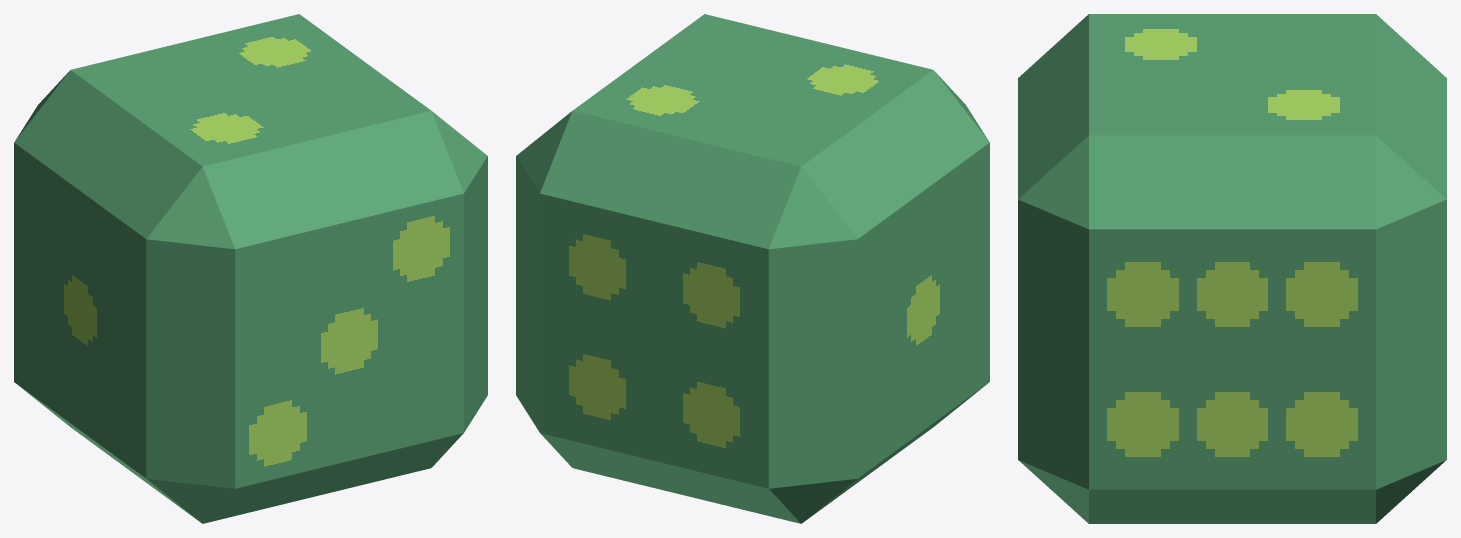
File: dice_leaves.glb
3 renders of one model, left to right at view 1: azimuth 30°, elevation 25°; view 2: azimuth 150°, elevation 25°; view 3: azimuth 270°, elevation 25°, orthographic. The views are drawn at different scales.
Visible parts, largest first — view 1: Cube; view 2: Cube; view 3: Cube.
Boxes of the visible parts, bbox=[...] form: Cube: bbox=[14, 14, 487, 523]; Cube: bbox=[516, 14, 989, 523]; Cube: bbox=[1018, 14, 1446, 523].
Bounding box in the file's own units: 2 × 2 × 2.
Materials: 1 (1 with a texture image).
